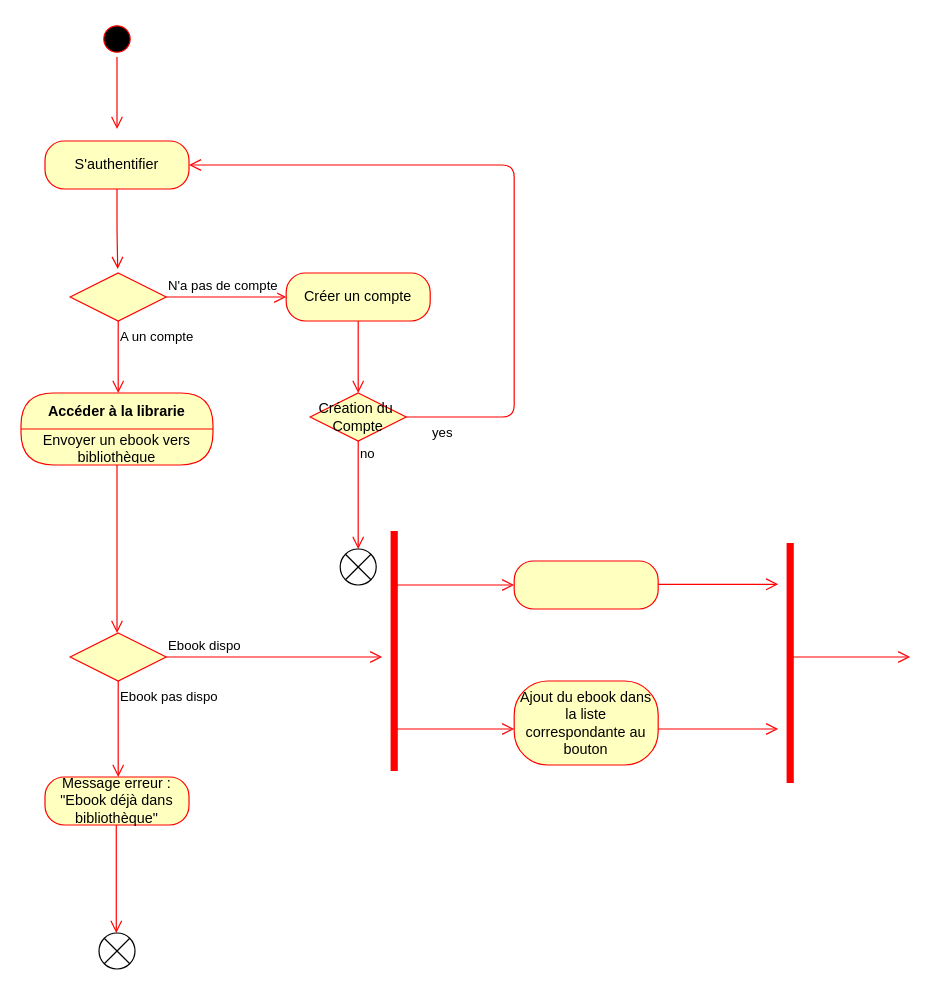
This 943x990 diagram has some shape labels left out. Here are the shapes that lost their labels. From the top down, the centre of each, then its label:
At (x=117, y=296): "Avoir un compte".
At (x=585, y=584): "Ajouter le ebook à ma bibliothèque".
At (x=117, y=656): "Ebook déjà présent ?".
